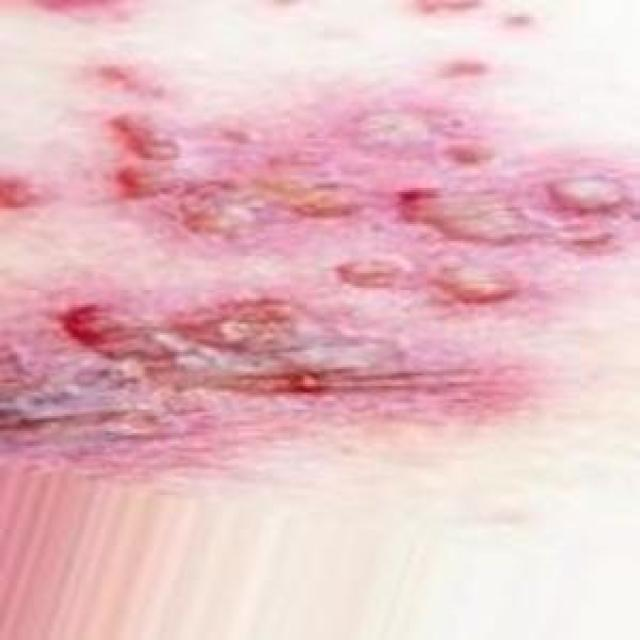Shingles: (0, 74, 626, 406)
